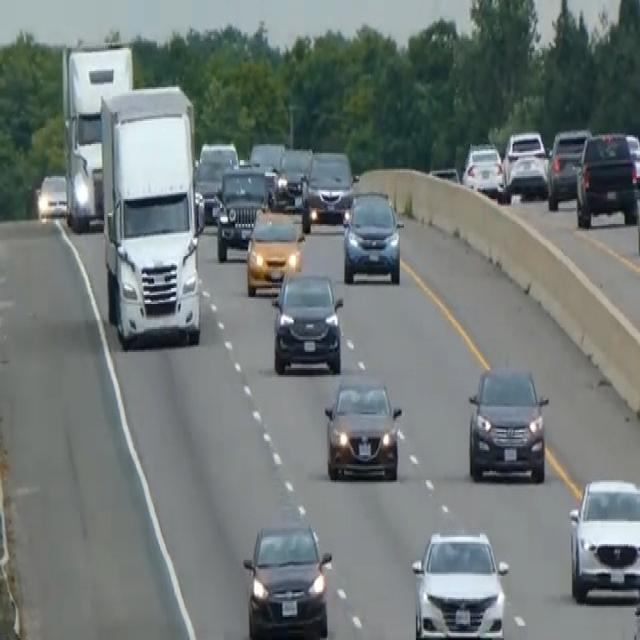car: (410, 528, 509, 638), (242, 519, 332, 638), (466, 362, 549, 483), (567, 474, 639, 602), (323, 373, 402, 482), (271, 265, 344, 375), (575, 128, 639, 228), (342, 186, 404, 284), (214, 162, 270, 261), (245, 206, 304, 295), (300, 148, 357, 231), (546, 126, 591, 210), (194, 139, 238, 222), (502, 128, 548, 196), (461, 140, 504, 198), (273, 146, 312, 208), (36, 172, 67, 218), (248, 139, 285, 174)
lorry: (99, 82, 205, 348)
